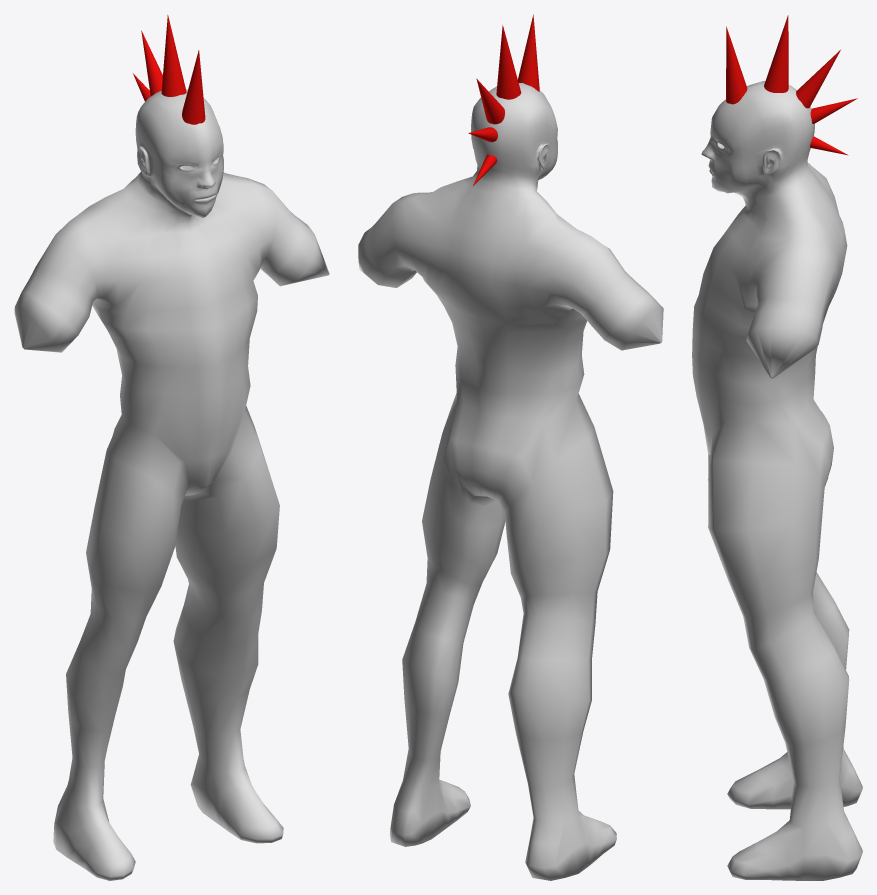
The model's file is PunkMale.fbx.
The picture shows the model from 3 angles, left to right: view 1: azimuth 30°, elevation 25°; view 2: azimuth 150°, elevation 25°; view 3: azimuth 270°, elevation 25°; orthographic projection.
Visible parts, largest first — view 1: Circle, Cone.004; view 2: Circle, Cone.004; view 3: Circle, Cone.004.
Part boxes in pixels (x1,y1,x2,y2): Circle: [14, 89, 329, 880]; Cone.004: [133, 15, 205, 124]; Circle: [358, 83, 663, 880]; Cone.004: [468, 14, 539, 185]; Circle: [692, 81, 862, 880]; Cone.004: [726, 15, 857, 155].
Size of the model in its own units: 83.9 by 216 by 40.76.
